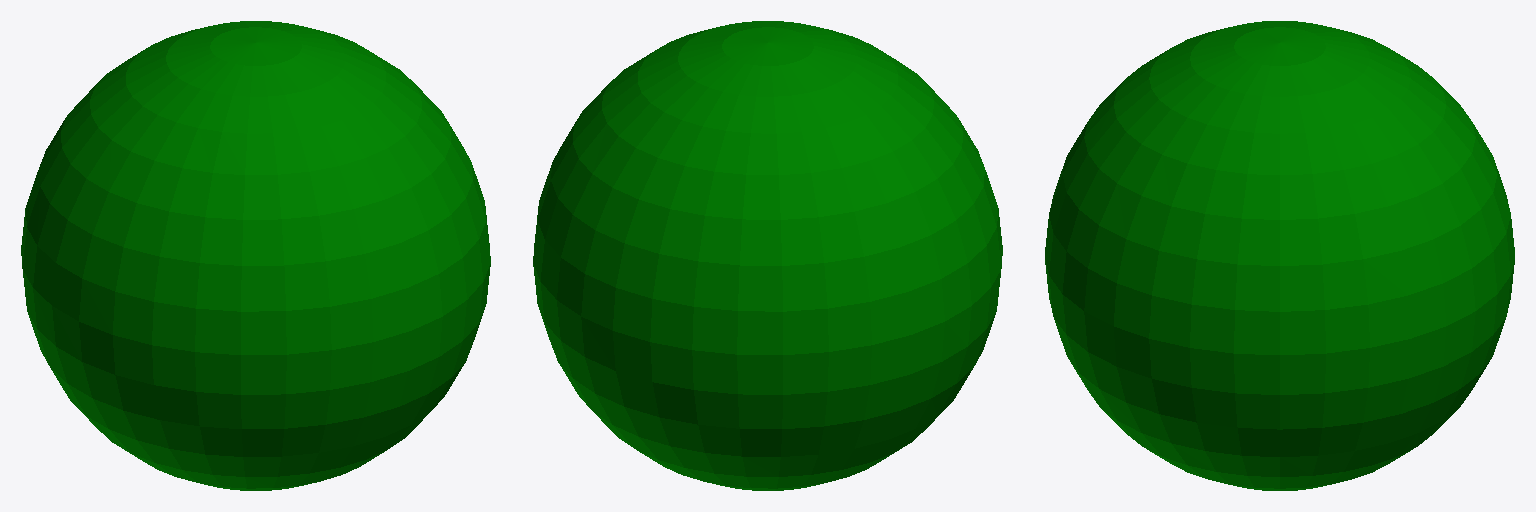
Rendered from sphereTest.obj.
The picture shows the model from 3 angles: view 1: azimuth 30°, elevation 25°; view 2: azimuth 150°, elevation 25°; view 3: azimuth 270°, elevation 25°; orthographic projection.
Parts seen in each view (by area): view 1: sphereTest; view 2: sphereTest; view 3: sphereTest.
Part boxes in pixels (left/top/right/bottom): sphereTest: left=21, top=21, right=490, bottom=490; sphereTest: left=533, top=21, right=1002, bottom=490; sphereTest: left=1045, top=21, right=1514, bottom=490.
Size of the model in its own units: 0.9448 by 0.9448 by 0.9448.